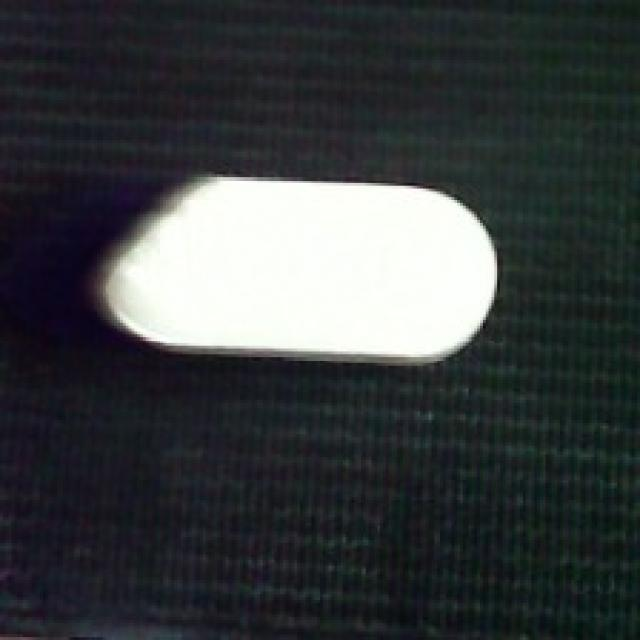defected: (94, 166, 500, 366)
